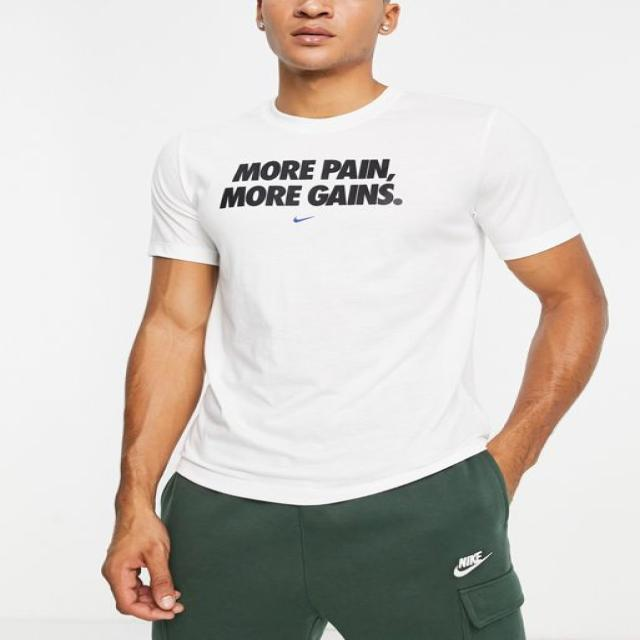tshirt: (144, 85, 580, 504)
